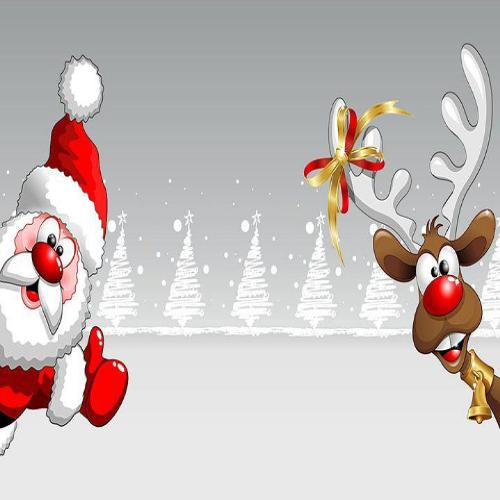Santa: (1, 57, 128, 456)
